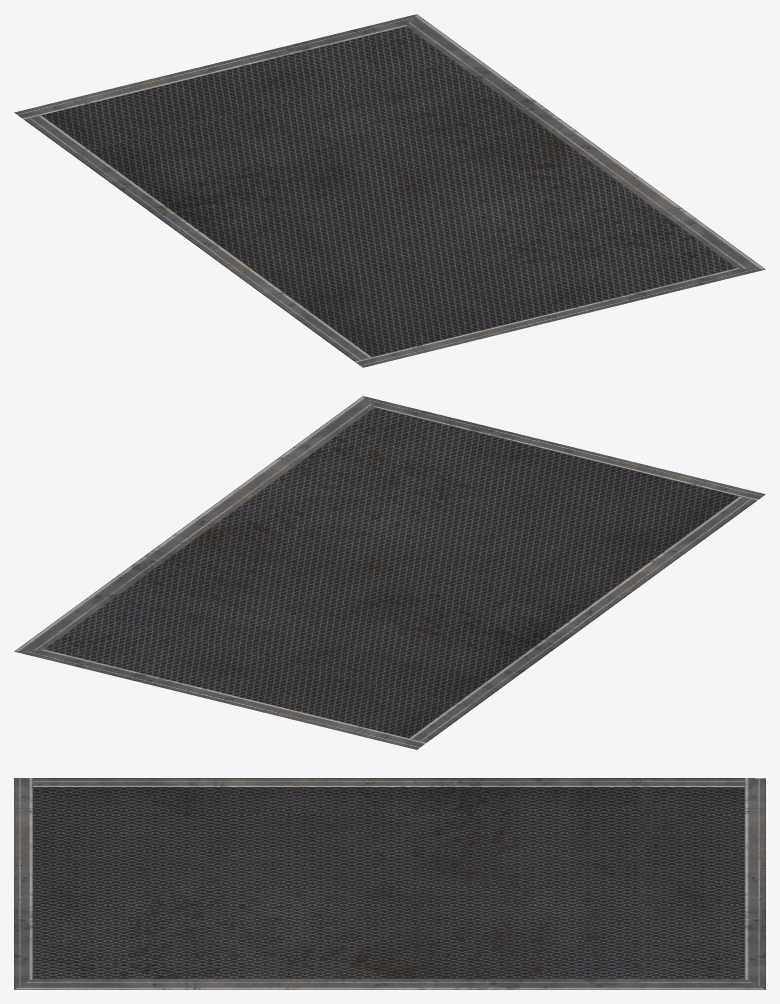
File: Floor_G_2'5qmts_08.fbx
3 renders of one model, top to bottom at view 1: azimuth 30°, elevation 25°; view 2: azimuth 150°, elevation 25°; view 3: azimuth 270°, elevation 25°, orthographic. The views are drawn at different scales.
Parts seen in each view (by area): view 1: Floor_G_2'5qmts_08; view 2: Floor_G_2'5qmts_08; view 3: Floor_G_2'5qmts_08.
Part boxes in pixels (left/top/right/bottom): Floor_G_2'5qmts_08: left=14, top=14, right=765, bottom=367; Floor_G_2'5qmts_08: left=14, top=396, right=765, bottom=749; Floor_G_2'5qmts_08: left=14, top=778, right=765, bottom=989.
Size of the model in its own units: 200 by 0.093 by 300.
Materials: 1 (1 with a texture image).
